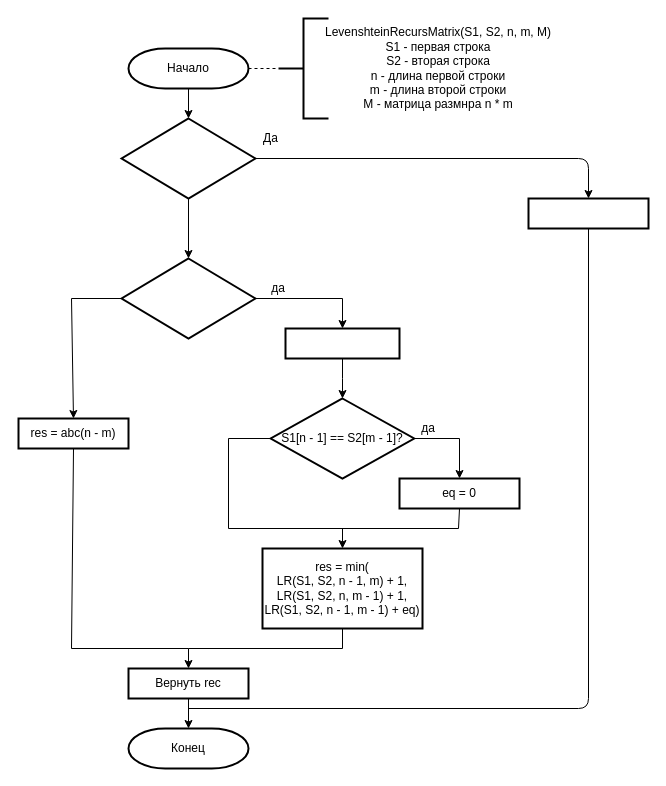
Some shapes in this 666 by 786 pixel diagram are drawn without their labels. The centre of each missing label's shape, as x and y in pixels:
eq = 1: the point at 342,343
M[n][m] существует?: the point at 188,158
n == 0 или m == 0 ?: the point at 188,298
Вернуть M[n][m]: the point at 588,213
